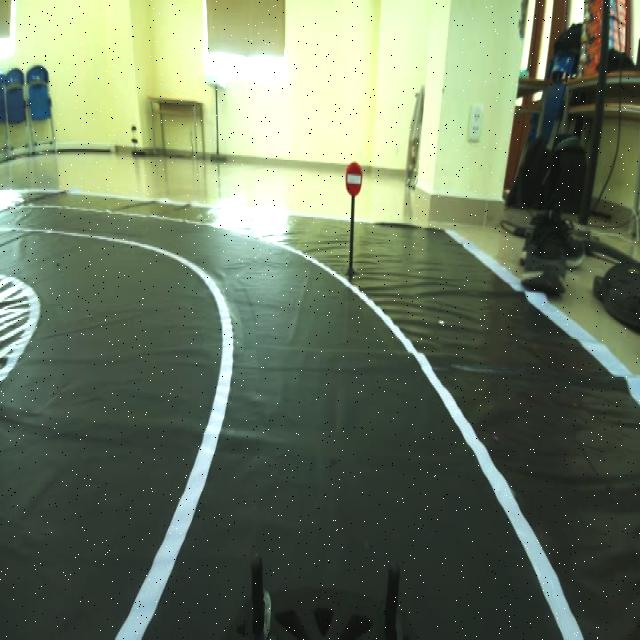no_entry: (341, 154, 367, 202)
